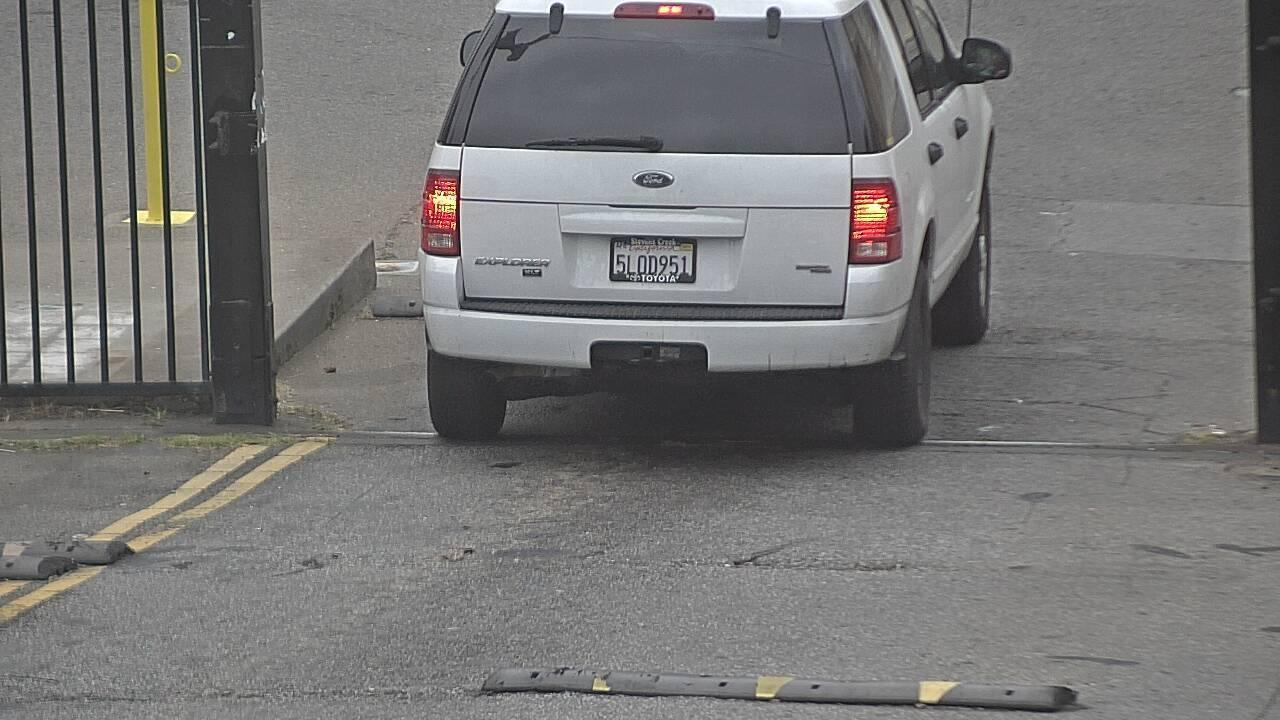placa de veiculo: (594, 224, 715, 292)
